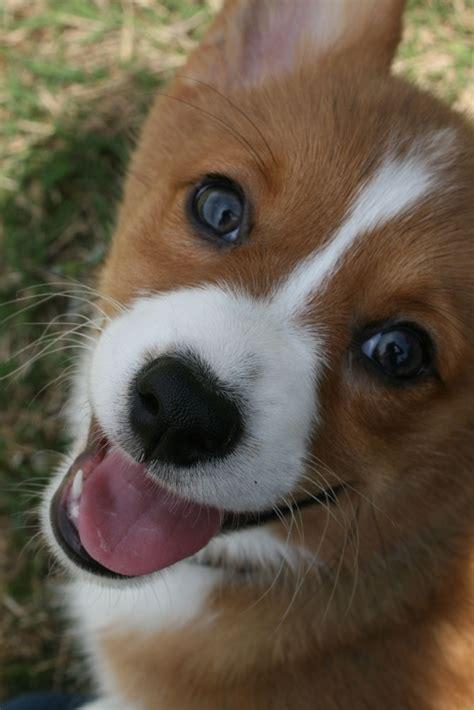dog: (40, 1, 474, 710)
